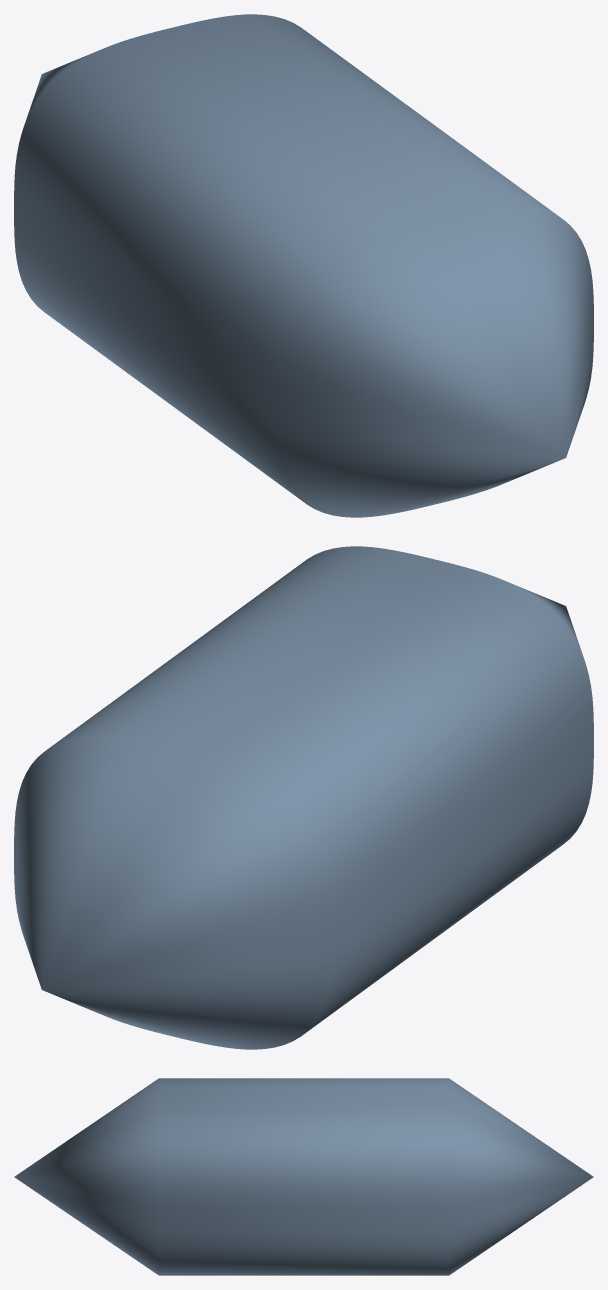
File: solids_body.glb
3 views of the same model, one above another, from view 1: azimuth 30°, elevation 25°; view 2: azimuth 150°, elevation 25°; view 3: azimuth 270°, elevation 25° (orthographic). The views are drawn at different scales.
Visible parts, largest first — view 1: body; view 2: body; view 3: body.
Boxes of the visible parts, box(x1,y1,x2,y2) form: body: box(14, 14, 593, 517); body: box(14, 546, 593, 1049); body: box(14, 1078, 593, 1275).
Bounding box in the file's own units: 0.042 × 0.036 × 0.12.
